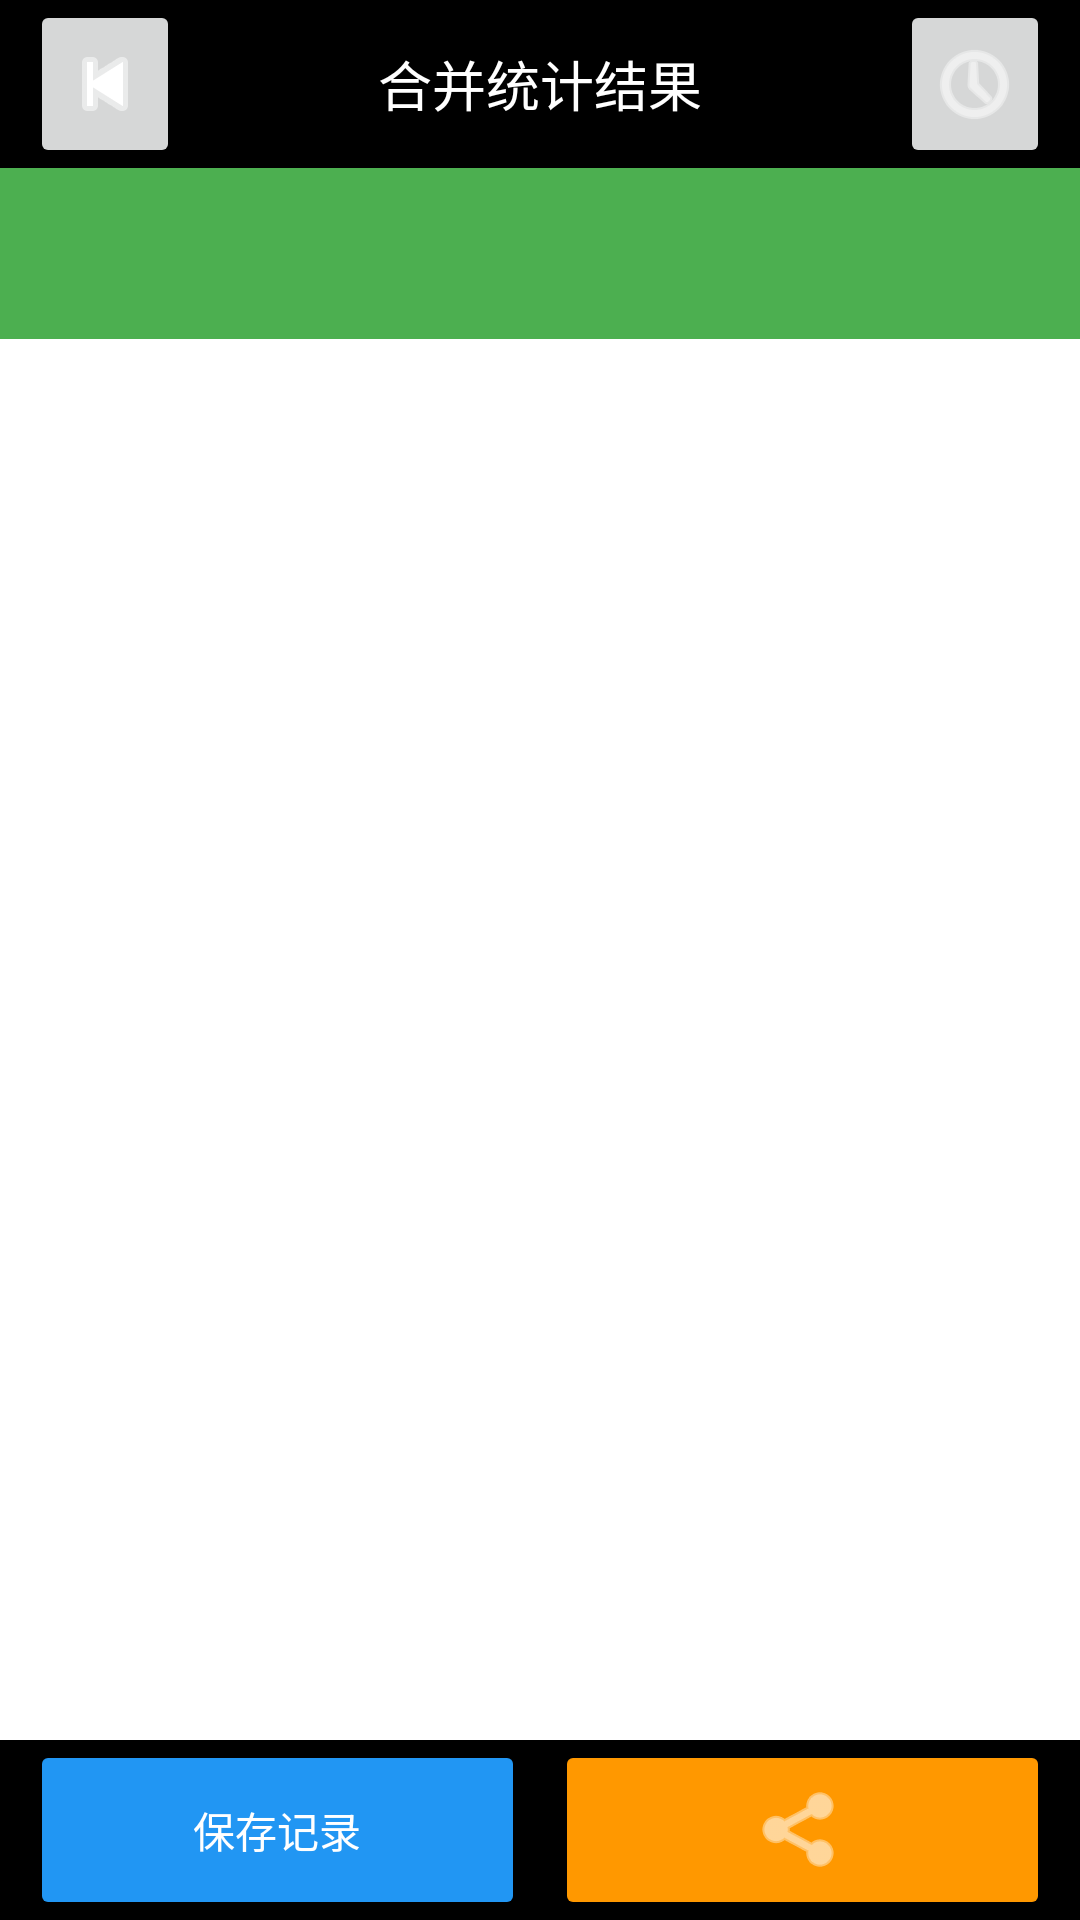

Named icons in this screenshot (1080px x 1920px) and their bounding boxes, (left=x1, top=y1, right=x2, bottom=y2):
历史记录按钮: (left=912, top=18, right=1038, bottom=150)
返回按钮: (left=42, top=18, right=168, bottom=150)
